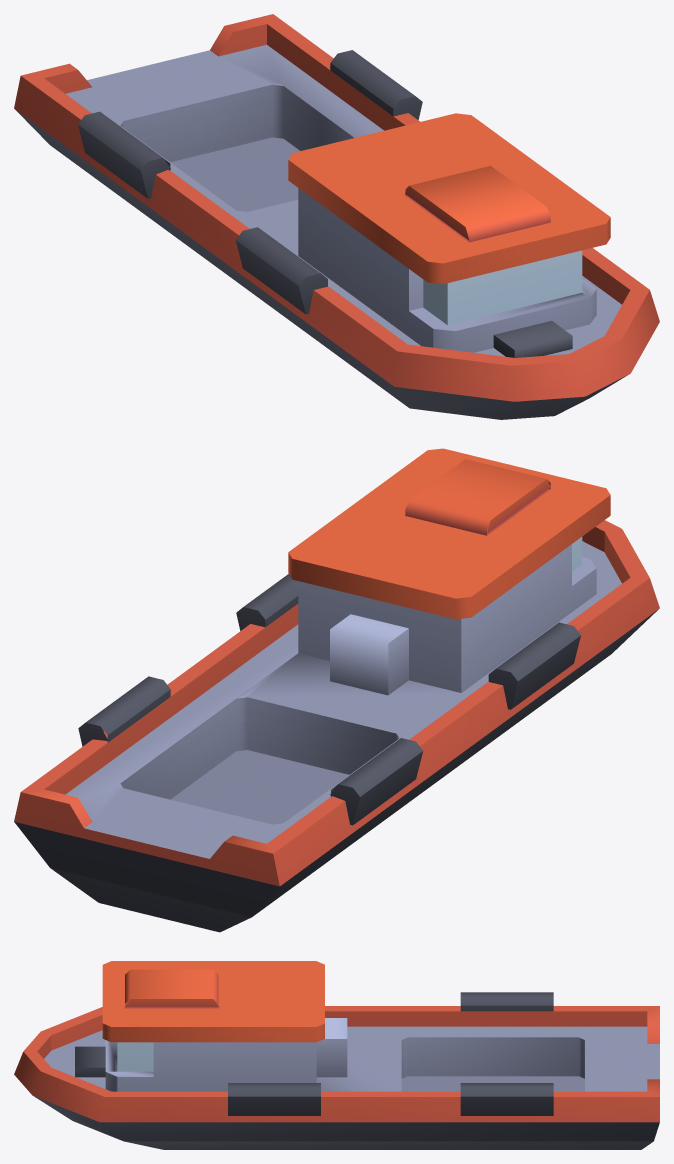
The model's file is cargo_ship.glb.
The picture shows the model from 3 angles, top to bottom: view 1: azimuth 30°, elevation 25°; view 2: azimuth 150°, elevation 25°; view 3: azimuth 270°, elevation 25°; orthographic projection. The views are drawn at different scales.
Visible parts, largest first — view 1: cargo_ship; view 2: cargo_ship; view 3: cargo_ship.
Part boxes in pixels (x1,y1,x2,y2): cargo_ship: [14, 14, 659, 419]; cargo_ship: [14, 448, 659, 932]; cargo_ship: [14, 961, 659, 1149].
Size of the model in its own units: 9.65 by 6.38 by 26.
Materials: 1 (1 with a texture image).
